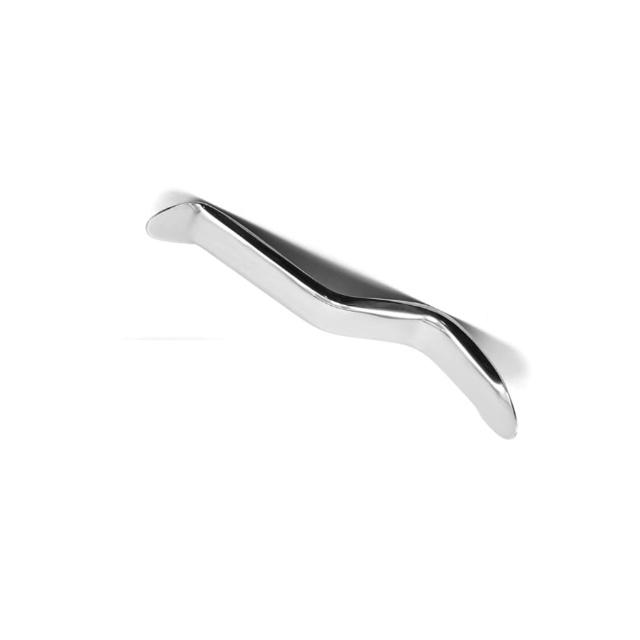separador: (145, 192, 518, 440)
